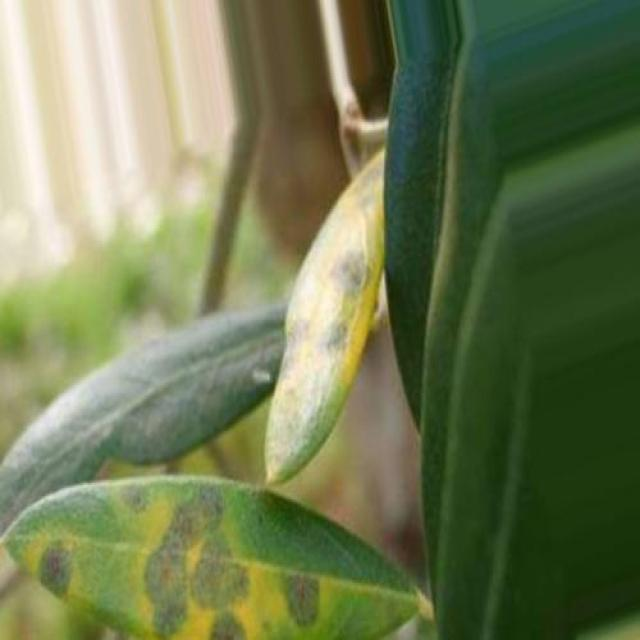OlivePeacockSpot: (4, 476, 412, 637), (265, 148, 383, 482)
